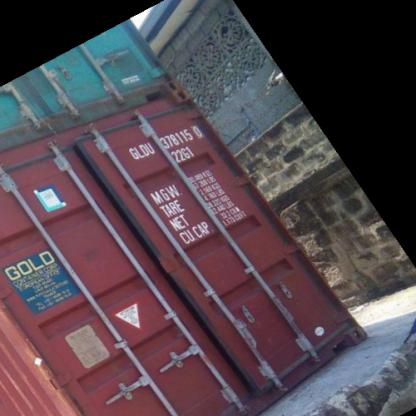Damage: (24, 334, 69, 398), (270, 344, 326, 390)
